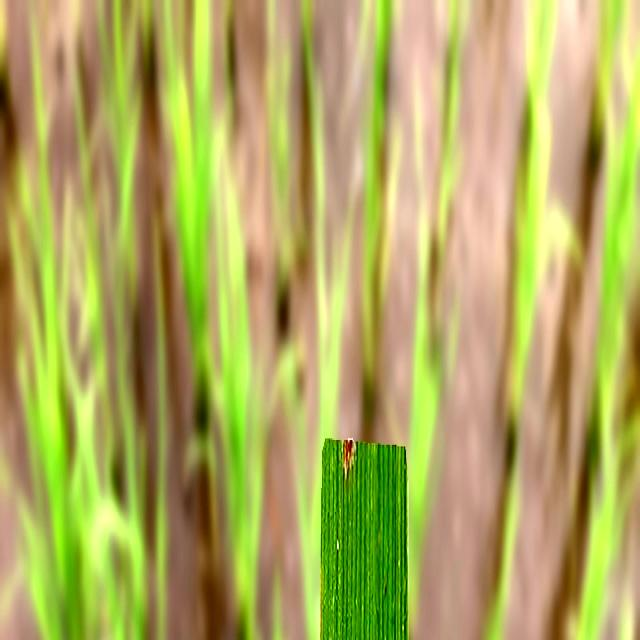NBS: (343, 438, 357, 478)
